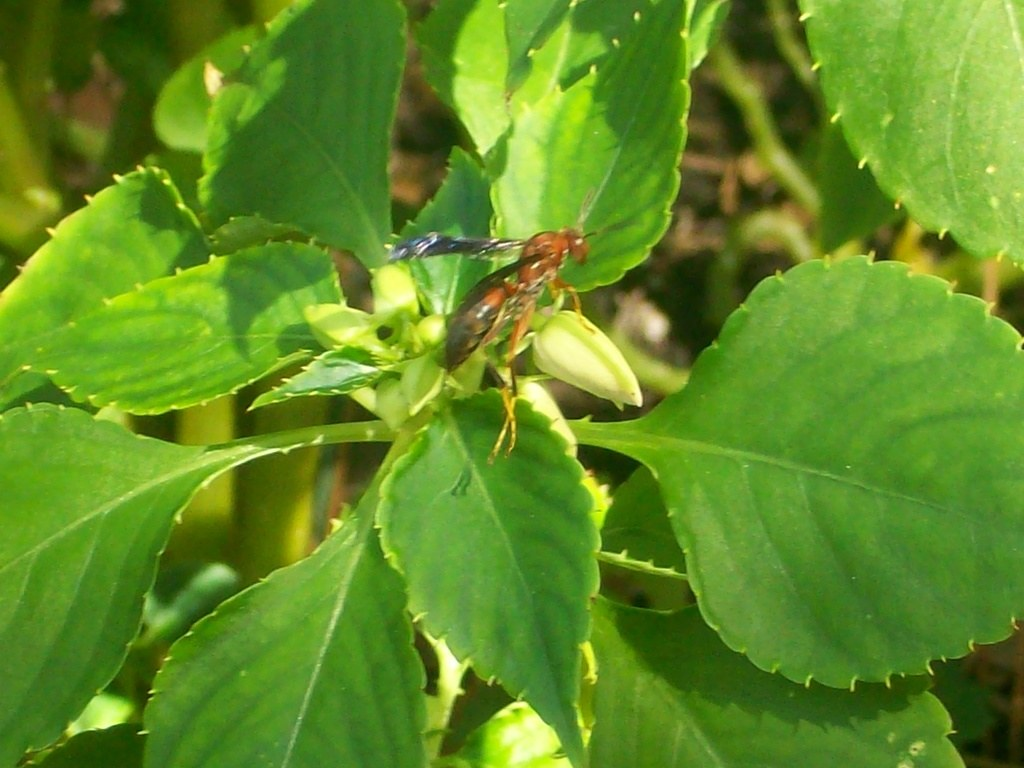insect: (6, 1, 1024, 755), (388, 188, 627, 467)
